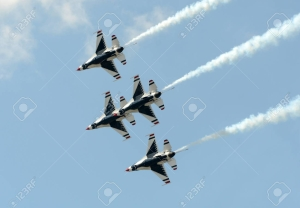flight: (85, 74, 166, 140), (124, 133, 178, 186), (74, 29, 127, 82)
